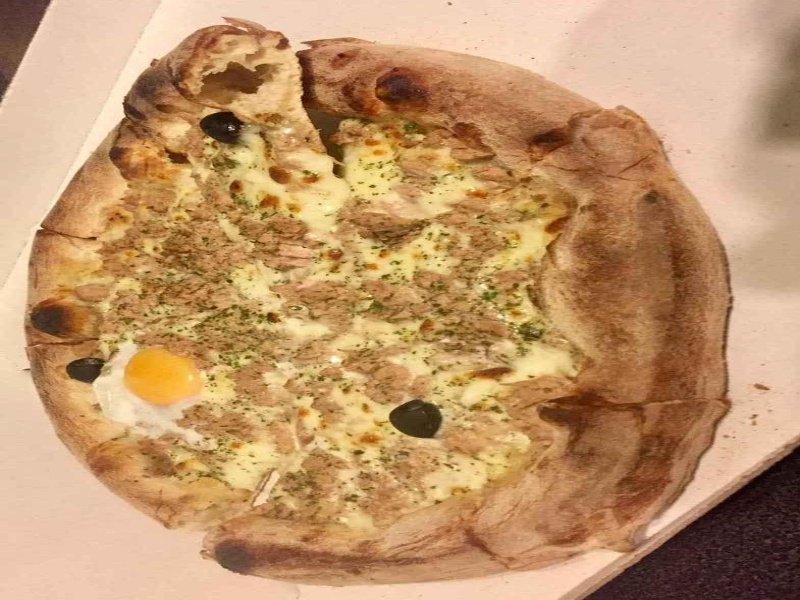oeuf: (105, 340, 211, 417)
